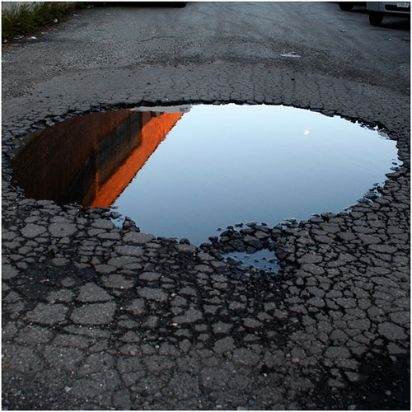pothole: (2, 95, 403, 247)
